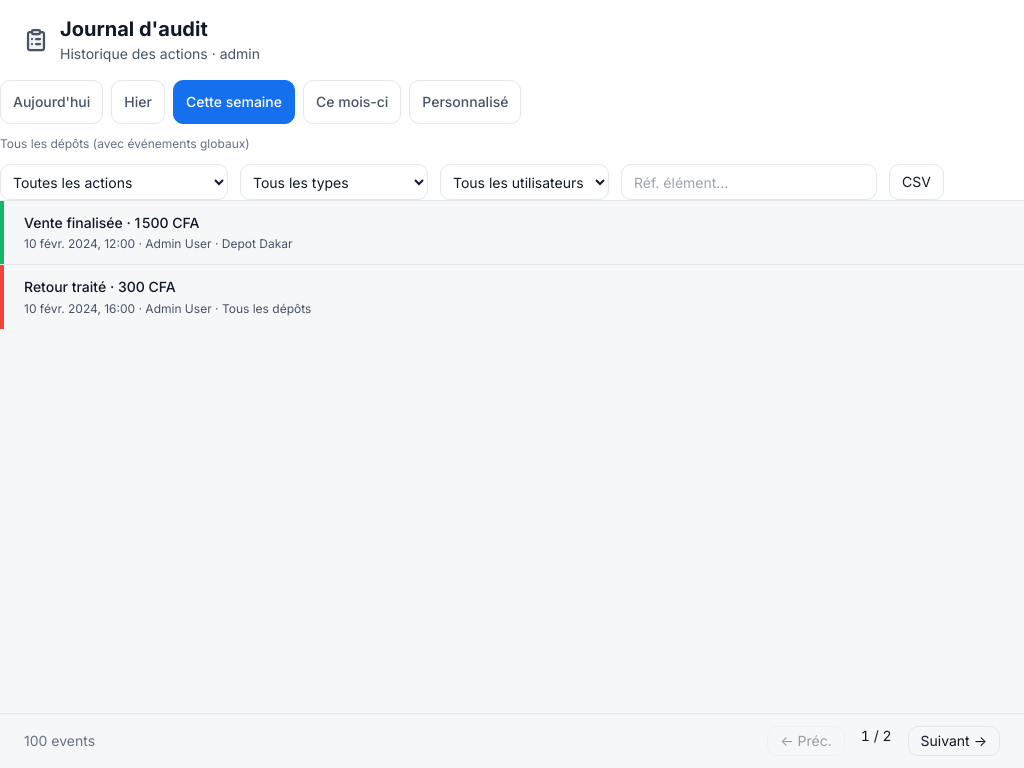
it: AuditPage › opens the detail drawer with before/after JSON
This screenshot has width=1024, height=768.
Click the button that starts with "Vente finalisée · 1 500 CFA" at (112, 222), box [0,201,1023,264]
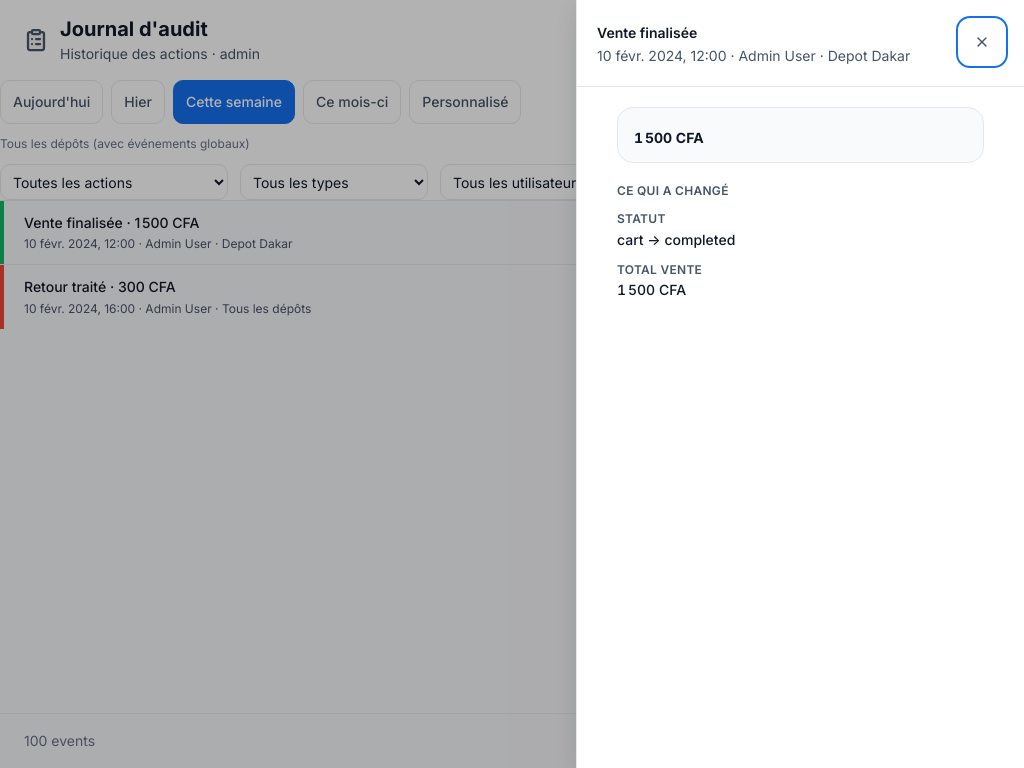
Expected: the text "Vente finalisée · 1 500 CFA" is shown, [24,213,200,232]
Now the text "Ce qui a changé" is shown, box [617,183,729,198]
